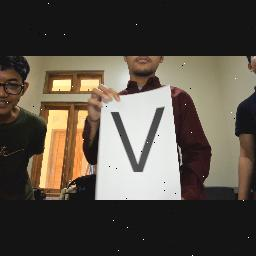v: (108, 104, 168, 176)
